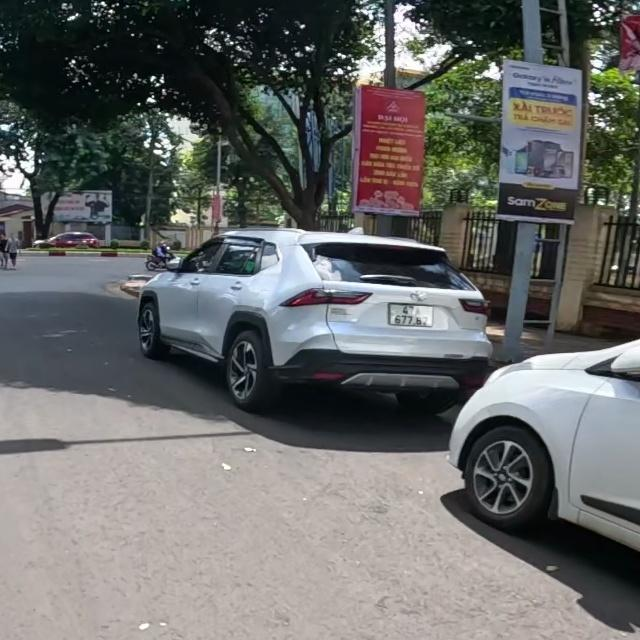car: (132, 221, 494, 427)
plate: (382, 292, 438, 333)
